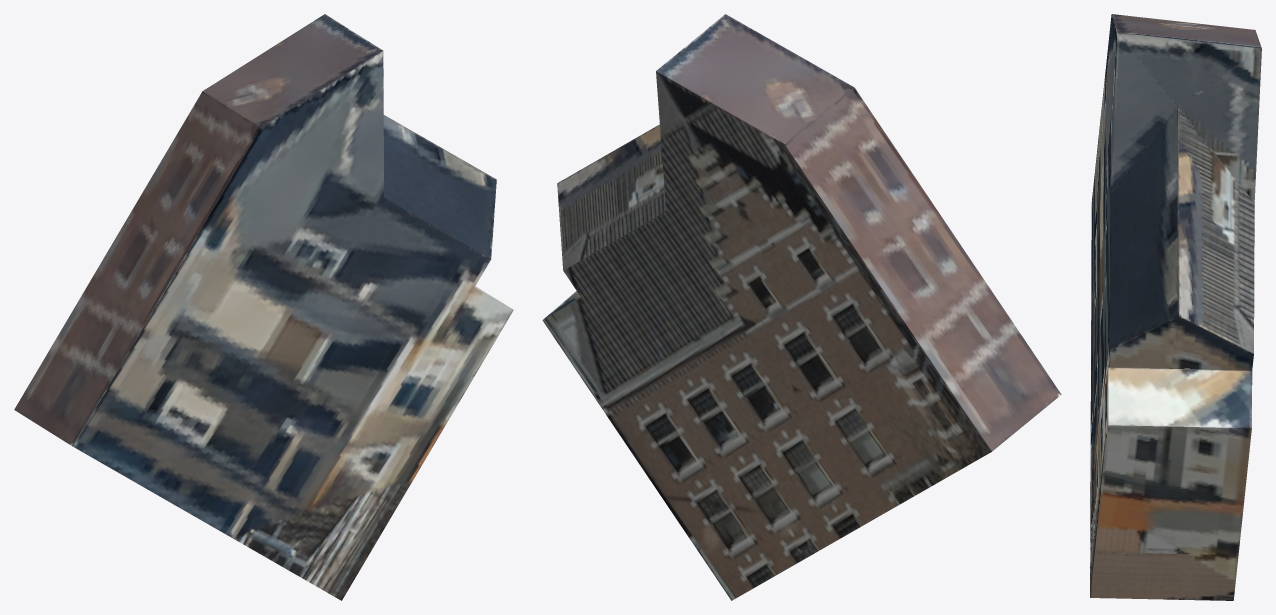
The picture shows the model from 3 angles, left to right: view 1: azimuth 30°, elevation 25°; view 2: azimuth 150°, elevation 25°; view 3: azimuth 270°, elevation 25°; orthographic projection. The views are drawn at different scales.
Visible parts, largest first — view 1: BAG_0599100000671721 (×3); view 2: BAG_0599100000671721 (×3); view 3: BAG_0599100000671721 (×5).
Boxes of the visible parts, left/top/right/bottom form: BAG_0599100000671721 (×3): left=14, top=14, right=513, bottom=600; BAG_0599100000671721 (×3): left=542, top=14, right=1061, bottom=600; BAG_0599100000671721 (×5): left=1090, top=14, right=1261, bottom=600.
Size of the model in its own units: 19.77 by 21.72 by 5.64.
5 materials, 5 textured.
